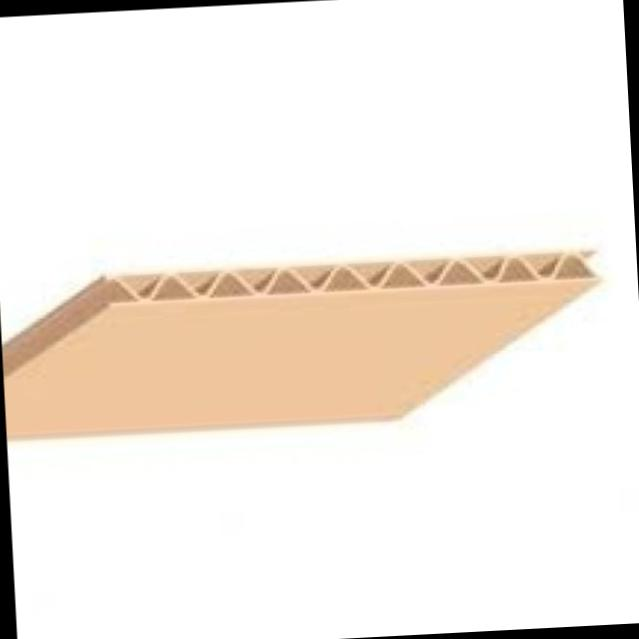cardboard paper: (1, 254, 596, 438)
